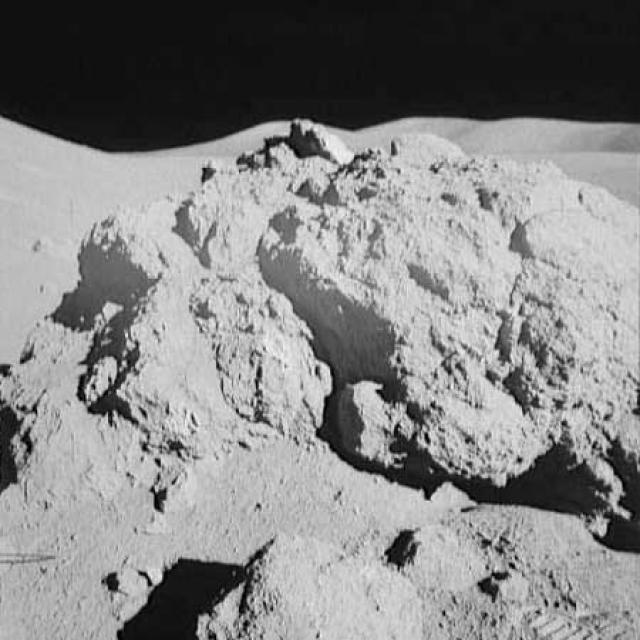rock: (3, 101, 638, 557), (198, 526, 425, 639), (399, 522, 522, 596)
